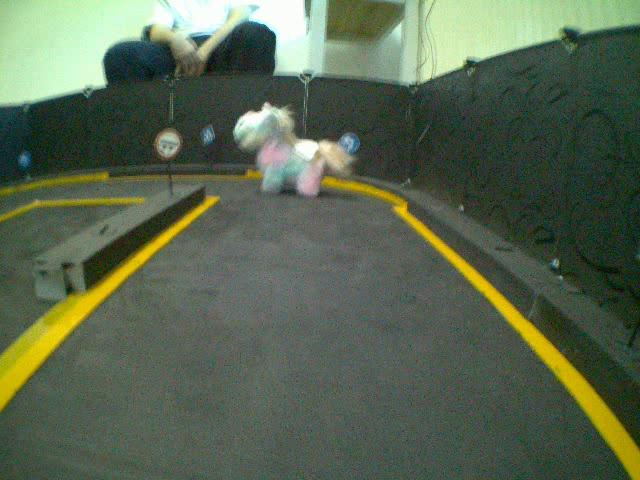unicorn: (231, 101, 358, 205)
